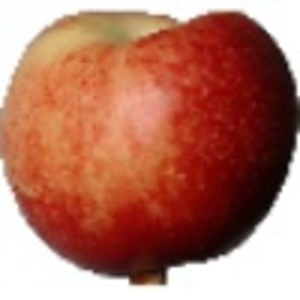nectarina: (1, 1, 300, 290)
